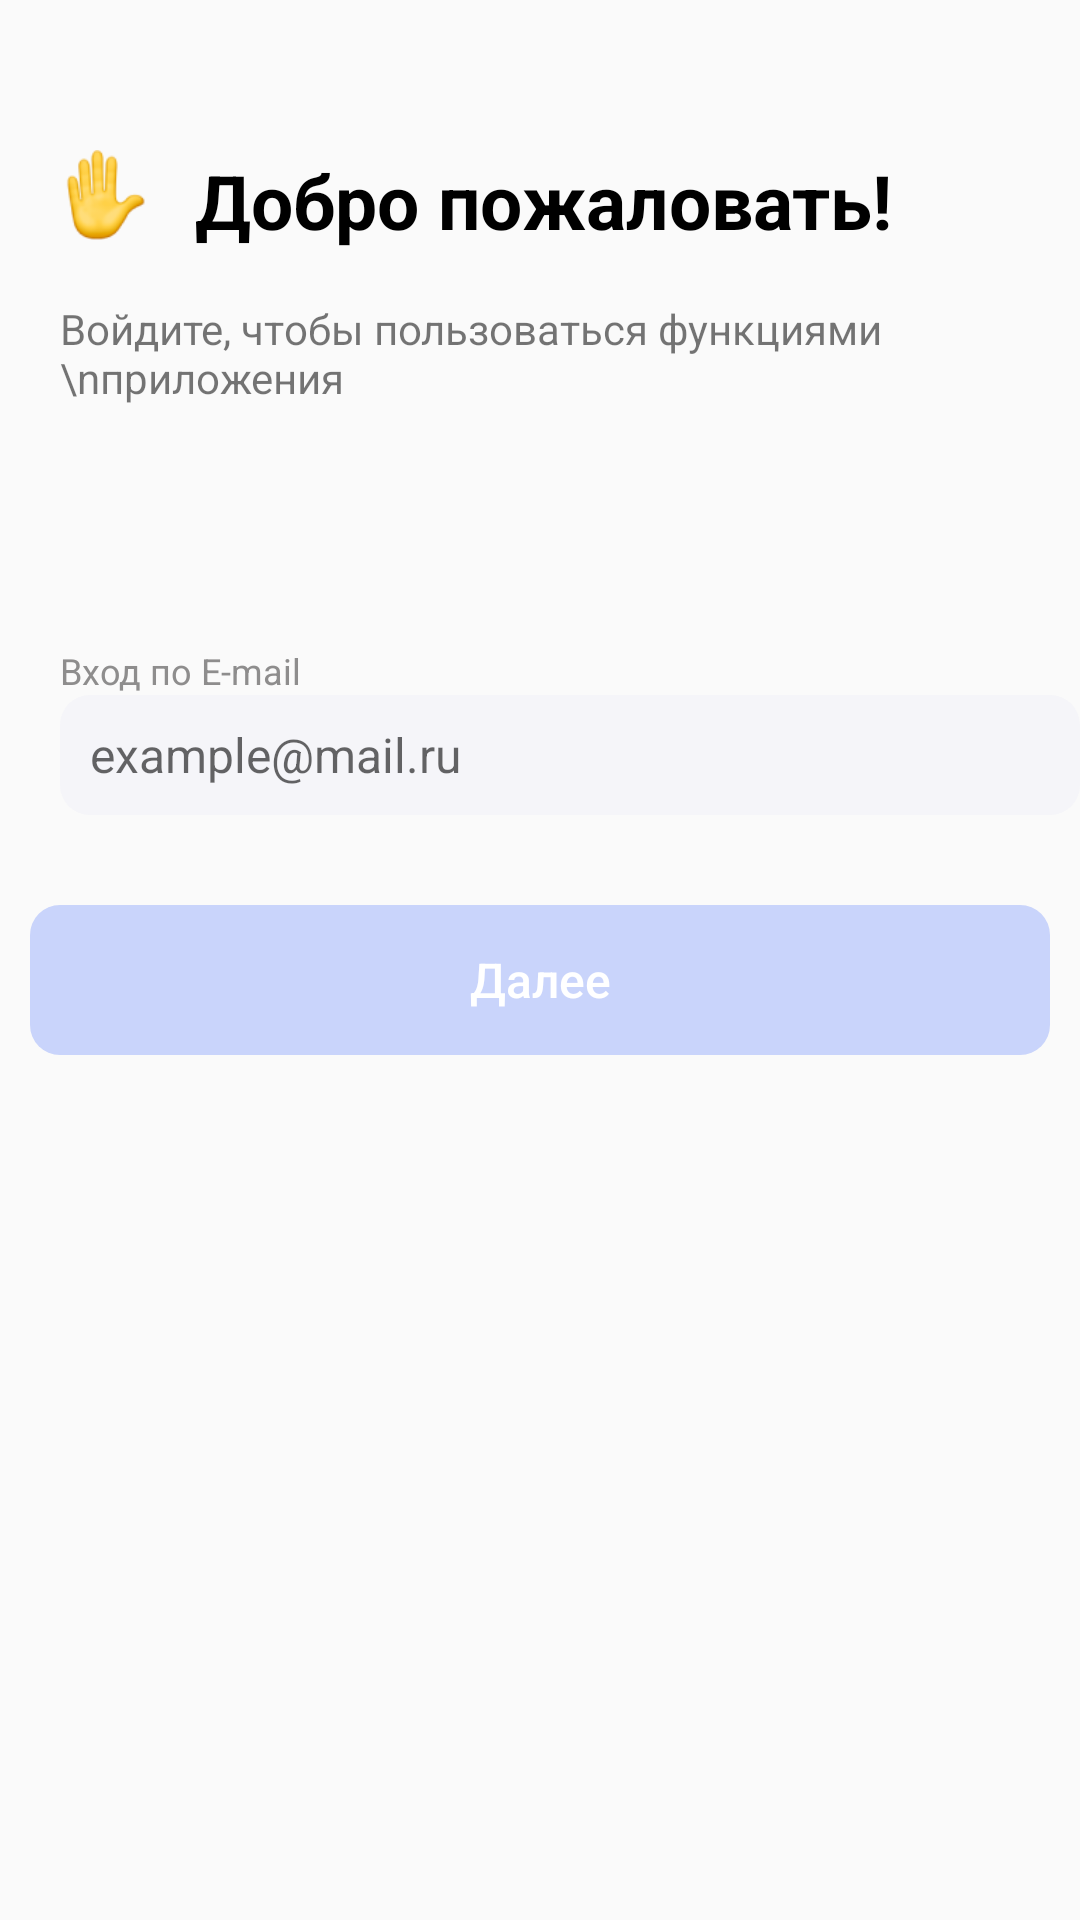

Named icons in this screenshot (1080px x 1920px) and their centers, (x,y):
hello: (106,195)
